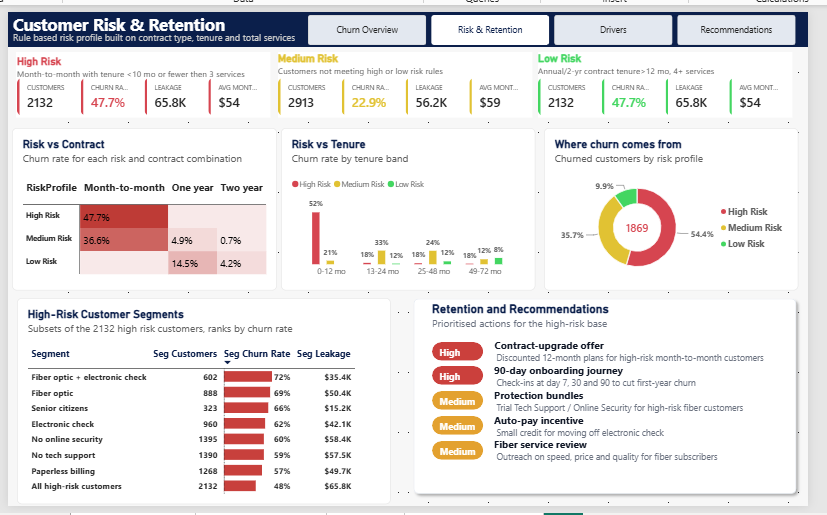

What the dashboard file says about the page in this screenshot:
{"tool":"powerbi","page":{"name":"Risk & Retention","canvas":[1280,790],"ordinal":1},"visuals":[{"type":"shape","box":[640,450,630,330],"z":0},{"type":"shape","box":[848,64,407,105],"z":1000},{"type":"shape","box":[432,64,407,105],"z":2000},{"type":"shape","box":[12,64,407,105],"z":3000},{"type":"textbox","box":[18,6,600,46],"z":4000},{"type":"shape","box":[0,0,1280,56],"z":5000},{"type":"pageNavigator","box":[480,4,780,48],"z":6000},{"type":"textbox","box":[1430,140,490,60],"z":7000},{"type":"textbox","box":[8,1,600,40],"z":8000},{"type":"textbox","box":[8,30,600,20],"z":9000},{"type":"shape","title":"High Risk","box":[14,68,400,103],"z":10000},{"type":"cardVisual","fields":{"Data":["CountNonNull(Churn.customerID)","Churn.Churn Rate","Churn.Revenue Leakage","Avg(Churn.MonthlyCharges)"]},"box":[15,105,400,60],"z":11000},{"type":"shape","title":"Low Risk","box":[848,64,400,103],"z":12000},{"type":"shape","title":"Medium Risk","box":[432,64,400,103],"z":13000},{"type":"cardVisual","fields":{"Data":["CountNonNull(Churn.customerID)","Churn.Churn Rate","Churn.Revenue Leakage","Avg(Churn.MonthlyCharges)"]},"box":[432,105,400,60],"z":14000},{"type":"cardVisual","fields":{"Data":["CountNonNull(Churn.customerID)","Churn.Churn Rate","Churn.Revenue Leakage","Avg(Churn.MonthlyCharges)"]},"box":[848,105,400,60],"z":15000},{"type":"pivotTable","title":"Risk vs Contract","fields":{"Columns":["Churn.Contract"],"Rows":["Churn.RiskProfile"],"Values":["Churn.Churn Display"]},"box":[7,185,424,260],"z":16000},{"type":"clusteredColumnChart","title":"Risk vs Tenure","fields":{"Category":["Churn.TenureBrand"],"Series":["Churn.RiskProfile"],"Y":["Sum(Churn.ChurnRate)"]},"box":[436,185,407,260],"z":17000},{"type":"donutChart","title":"Where churn comes from","fields":{"Category":["Churn.RiskProfile"],"Y":["Churn.Churned Customers"]},"box":[858,185,407,260],"z":18000},{"type":"tableEx","title":"High-Risk Customer Segments","fields":{"Values":["Segments.Segment","Segments.Seg Customers","Segments.Seg Churn Rate","Segments.Seg Leakage"]},"box":[14,457,598,330],"z":19000},{"type":"textbox","box":[679,464,400,26],"z":20000},{"type":"textbox","box":[679,486,400,22],"z":21000},{"type":"actionButton","box":[679,528,82,30],"z":22000},{"type":"textbox","box":[770,522,480,40],"z":23000},{"type":"actionButton","box":[679,567,82,30],"z":24000},{"type":"textbox","box":[777,561,470,40],"z":25000},{"type":"actionButton","box":[679,606,82,30],"z":26000},{"type":"textbox","box":[777,602,450,40],"z":27000},{"type":"actionButton","box":[679,647,82,30],"z":28000},{"type":"textbox","box":[777,641,370,40],"z":29000},{"type":"actionButton","box":[679,686,82,30],"z":30000},{"type":"textbox","box":[777,680,400,40],"z":31000}]}

Visuals, with their boxes in screenshot pixels (x1, y1, x2, y2), scaled from the page's 1280x790 canvas onto the 827x515 screenshot:
shape: 414:293:821:508
shape: 548:42:811:110
shape: 279:42:542:110
shape: 8:42:271:110
textbox: 12:4:399:34
shape: 0:0:826:37
pageNavigator: 310:3:814:34
textbox: 5:1:393:27
textbox: 5:20:393:33
"High Risk" shape: 9:44:267:111
cardVisual - CountNonNull(Churn.customerID) x Churn.Churn Rate: 10:68:268:108
"Low Risk" shape: 548:42:806:109
"Medium Risk" shape: 279:42:538:109
cardVisual - CountNonNull(Churn.customerID) x Churn.Churn Rate: 279:68:538:108
cardVisual - CountNonNull(Churn.customerID) x Churn.Churn Rate: 548:68:806:108
"Risk vs Contract" pivotTable: 5:121:278:290
"Risk vs Tenure" clusteredColumnChart: 282:121:545:290
"Where churn comes from" donutChart: 554:121:817:290
"High-Risk Customer Segments" tableEx: 9:298:395:513
textbox: 439:302:697:319
textbox: 439:317:697:331
actionButton: 439:344:492:364
textbox: 497:340:808:366
actionButton: 439:370:492:389
textbox: 502:366:806:392
actionButton: 439:395:492:415
textbox: 502:392:793:419
actionButton: 439:422:492:441
textbox: 502:418:741:444
actionButton: 439:447:492:467
textbox: 502:443:760:469
